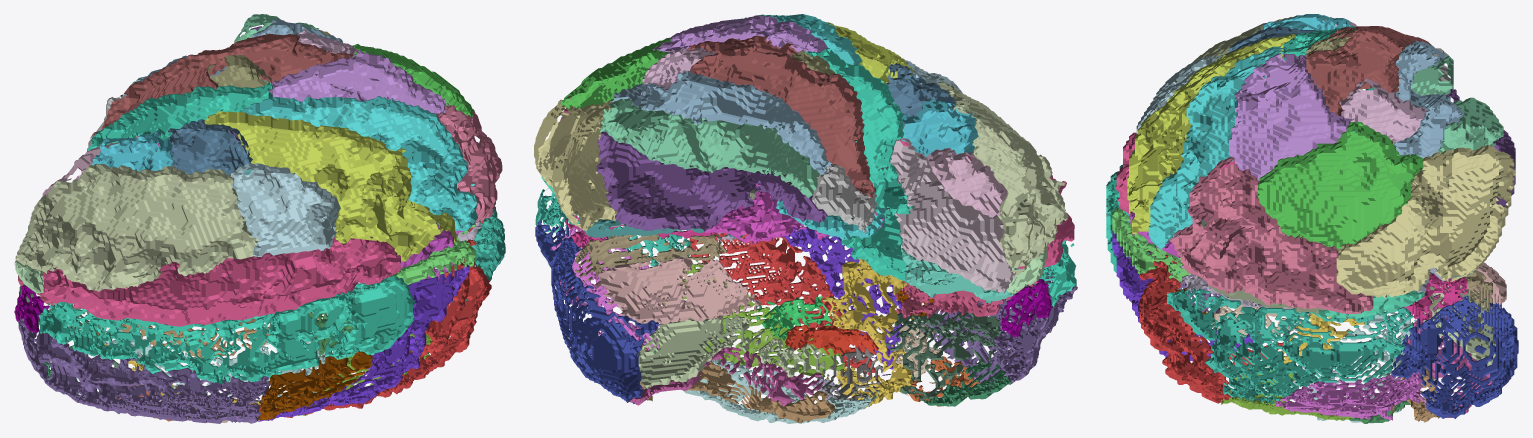
Rendered from wmparc.glb.
The picture shows the model from 3 angles, left to right: view 1: azimuth 30°, elevation 25°; view 2: azimuth 150°, elevation 25°; view 3: azimuth 270°, elevation 25°; orthographic projection. The views are drawn at different scales.
Parts seen in each view (by area): view 1: 3027_wm-lh-rostralmiddlefrontal, 2028_ctx-rh-superiorfrontal, 3028_wm-lh-superiorfrontal, 3024_wm-lh-precentral, 2027_ctx-rh-rostralmiddlefrontal, 3022_wm-lh-postcentral, 3003_wm-lh-caudalmiddlefrontal, 3030_wm-lh-superiortemporal, 3031_wm-lh-supramarginal, 2024_ctx-rh-precentral, 3035_wm-lh-insula, 2022_ctx-rh-postcentral (+17 smaller); view 2: 3007_wm-lh-fusiform, 3030_wm-lh-superiortemporal, 3009_wm-lh-inferiortemporal, 3012_wm-lh-lateralorbitofrontal, 3027_wm-lh-rostralmiddlefrontal, 2011_ctx-rh-lateraloccipital, 3035_wm-lh-insula, 2013_ctx-rh-lingual, 3015_wm-lh-middletemporal, 3011_wm-lh-lateraloccipital, 2007_ctx-rh-fusiform, 2022_ctx-rh-postcentral (+37 smaller); view 3: 3011_wm-lh-lateraloccipital, 3029_wm-lh-superiorparietal, 2029_ctx-rh-superiorparietal, 3008_wm-lh-inferiorparietal, 3031_wm-lh-supramarginal, 2011_ctx-rh-lateraloccipital, 3022_wm-lh-postcentral, 3024_wm-lh-precentral, 2022_ctx-rh-postcentral, 3030_wm-lh-superiortemporal, 2008_ctx-rh-inferiorparietal, 3015_wm-lh-middletemporal (+26 smaller).
Boxes of the visible parts, x1=… form: 3027_wm-lh-rostralmiddlefrontal: x1=15, y1=164, x2=258, y2=291; 2028_ctx-rh-superiorfrontal: x1=38, y1=276, x2=415, y2=383; 3028_wm-lh-superiorfrontal: x1=42, y1=236, x2=401, y2=326; 3024_wm-lh-precentral: x1=204, y1=111, x2=456, y2=261; 2027_ctx-rh-rostralmiddlefrontal: x1=15, y1=315, x2=270, y2=423; 3022_wm-lh-postcentral: x1=242, y1=96, x2=478, y2=231; 3003_wm-lh-caudalmiddlefrontal: x1=230, y1=163, x2=340, y2=257; 3030_wm-lh-superiortemporal: x1=91, y1=33, x2=355, y2=143; 3031_wm-lh-supramarginal: x1=269, y1=50, x2=448, y2=114; 2024_ctx-rh-precentral: x1=257, y1=264, x2=469, y2=421; 3035_wm-lh-insula: x1=87, y1=82, x2=272, y2=150; 2022_ctx-rh-postcentral: x1=251, y1=220, x2=491, y2=417; 3007_wm-lh-fusiform: x1=596, y1=131, x2=827, y2=231; 3030_wm-lh-superiortemporal: x1=688, y1=35, x2=875, y2=197; 3009_wm-lh-inferiortemporal: x1=599, y1=98, x2=819, y2=198; 3012_wm-lh-lateralorbitofrontal: x1=881, y1=138, x2=1015, y2=293; 3027_wm-lh-rostralmiddlefrontal: x1=937, y1=81, x2=1068, y2=275; 2011_ctx-rh-lateraloccipital: x1=535, y1=220, x2=658, y2=403; 3035_wm-lh-insula: x1=805, y1=48, x2=913, y2=282; 2013_ctx-rh-lingual: x1=595, y1=256, x2=766, y2=324; 3015_wm-lh-middletemporal: x1=612, y1=70, x2=831, y2=174; 3011_wm-lh-lateraloccipital: x1=534, y1=99, x2=620, y2=230; 2007_ctx-rh-fusiform: x1=637, y1=315, x2=828, y2=389; 2022_ctx-rh-postcentral: x1=689, y1=232, x2=879, y2=376; 3011_wm-lh-lateraloccipital: x1=1336, y1=144, x2=1515, y2=298; 3029_wm-lh-superiorparietal: x1=1170, y1=157, x2=1373, y2=313; 2029_ctx-rh-superiorparietal: x1=1167, y1=271, x2=1415, y2=404; 3008_wm-lh-inferiorparietal: x1=1258, y1=122, x2=1423, y2=249; 3031_wm-lh-supramarginal: x1=1229, y1=53, x2=1351, y2=180; 2011_ctx-rh-lateraloccipital: x1=1391, y1=295, x2=1518, y2=418; 3022_wm-lh-postcentral: x1=1148, y1=46, x2=1286, y2=249; 3024_wm-lh-precentral: x1=1127, y1=34, x2=1295, y2=234; 2022_ctx-rh-postcentral: x1=1139, y1=254, x2=1288, y2=403; 3030_wm-lh-superiortemporal: x1=1306, y1=26, x2=1430, y2=115; 2008_ctx-rh-inferiorparietal: x1=1276, y1=371, x2=1424, y2=420; 3015_wm-lh-middletemporal: x1=1393, y1=40, x2=1464, y2=158.
Size of the model in its own units: 183 by 130 by 136.
